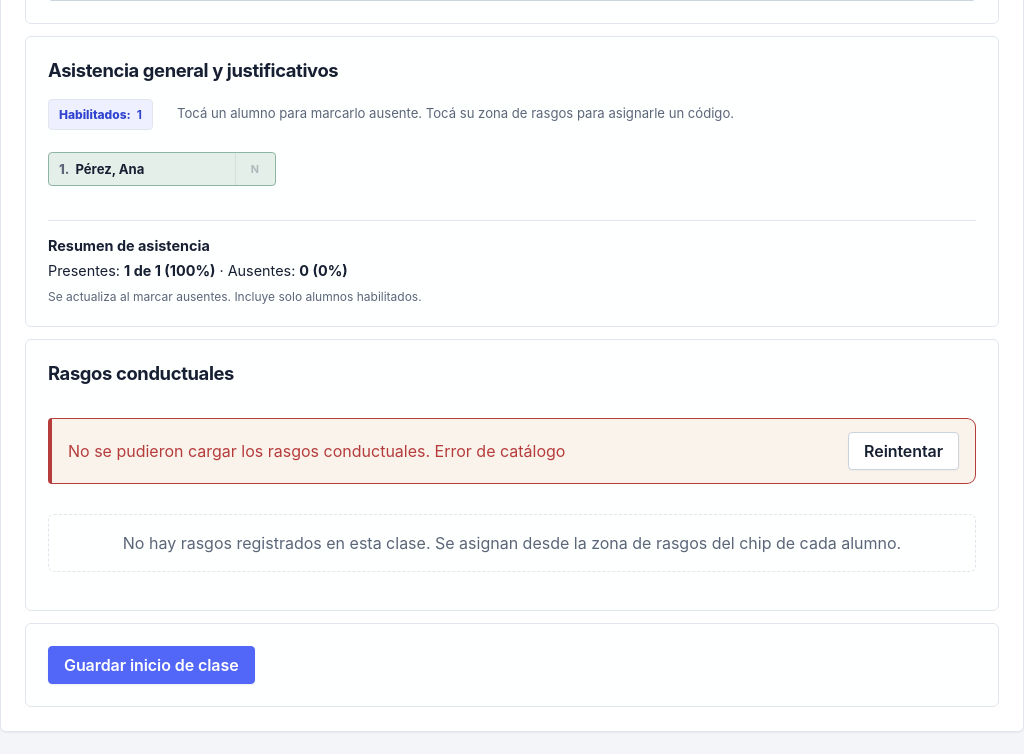
Test: Inicio de clase › avisa si el catálogo de rasgos no carga y permite reintentar sin bloquear el formulario
The width and height of the screenshot is (1024, 754).
(page scrolled)
Expected: the text "No se pudieron cargar los rasgos conductuales. Error de catálogo" is shown, [68, 441, 565, 461]
Expected: the button "Guardar inicio de clase" is enabled, [48, 646, 255, 684]
Click the button "Reintentar" at (904, 451), box [848, 432, 959, 470]
(page scrolled)
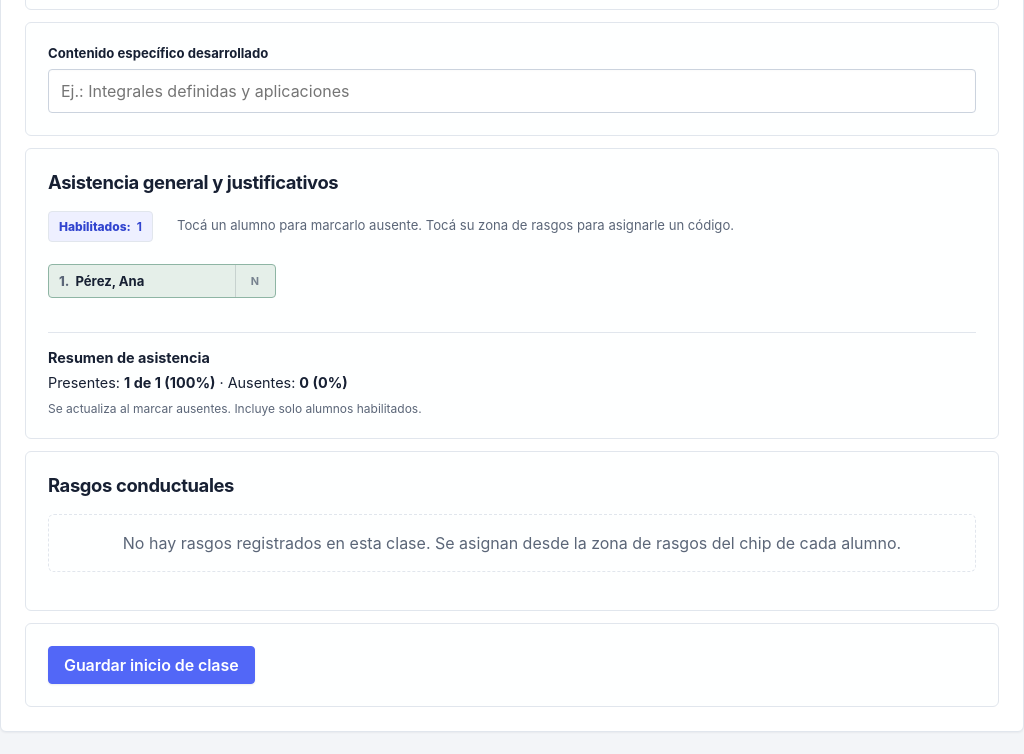
Result: the text "No se pudieron cargar los rasgos conductuales. Error de catálogo" is gone
Result: the button named "Rasgos conductuales de Pérez, Ana" is enabled at [234, 265, 274, 297]
